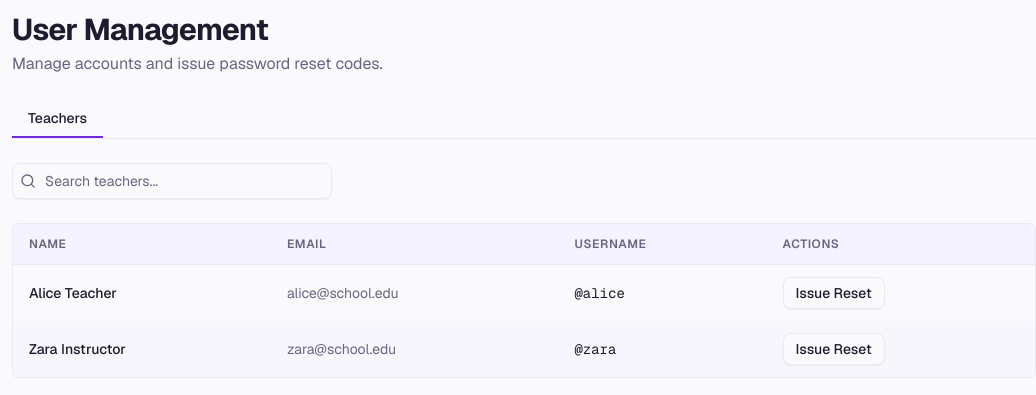
Test: StaffManagementView › filters teachers by search
This screenshot has width=1036, height=395.
Expected: the text "Alice Teacher" is shown, [13,264,271,321]
Expected: the text "Zara Instructor" is shown, [13,321,271,377]
Type "zara" into the field with placeholder "Search teachers..." at point(172, 181), box [12,163,332,199]
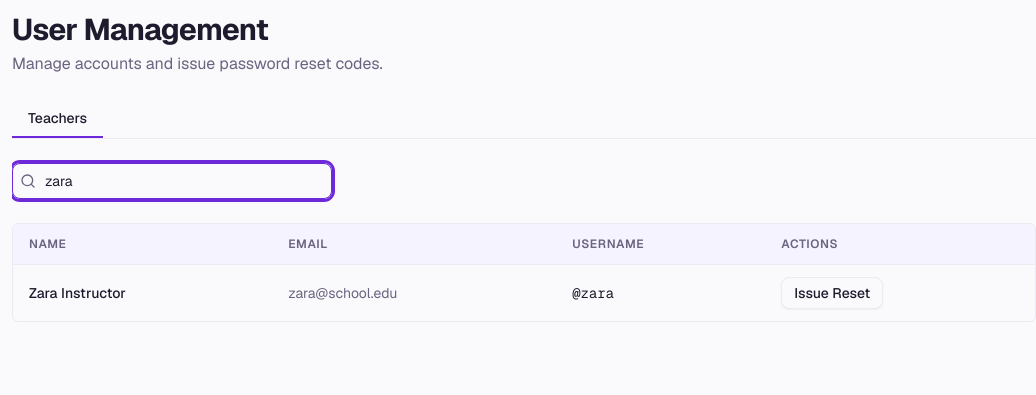
Expected: the text "Zara Instructor" is shown, [13,264,272,321]
Now the text "Alice Teacher" is gone
